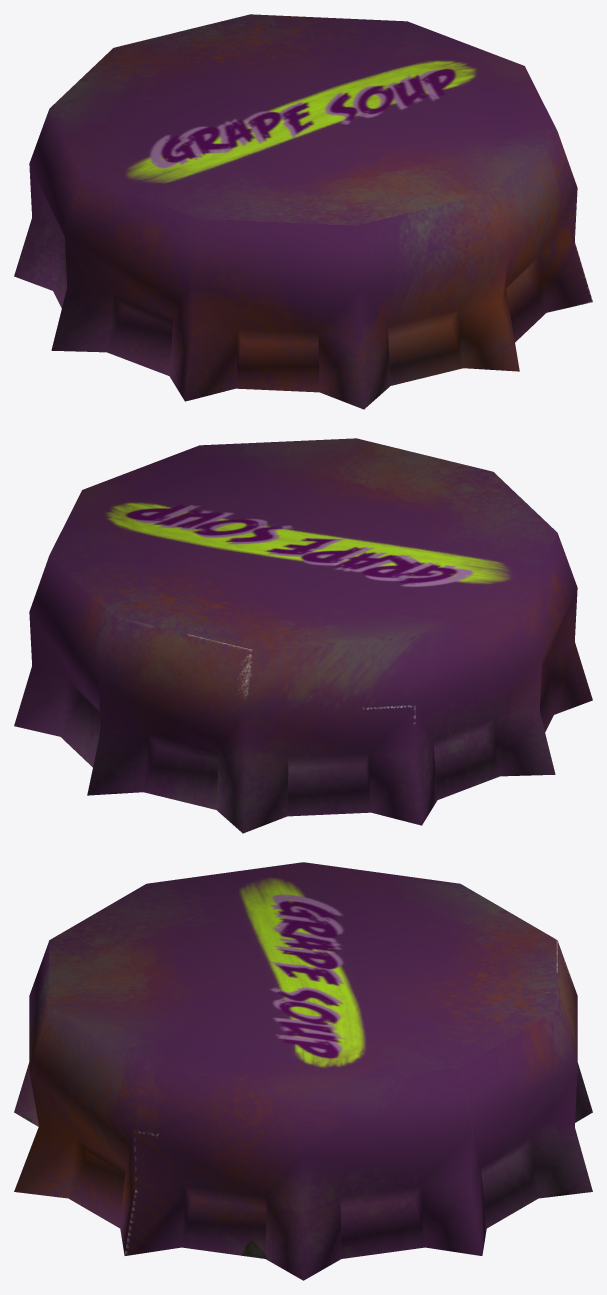
File: bottlecap.obj
3 renders of one model, top to bottom at view 1: azimuth 30°, elevation 25°; view 2: azimuth 150°, elevation 25°; view 3: azimuth 270°, elevation 25°, orthographic. The views are drawn at different scales.
Visible parts, largest first — view 1: pCylinder1; view 2: pCylinder1; view 3: pCylinder1.
Boxes of the visible parts, x1,y1,x2,y2 form: pCylinder1: (14, 14, 592, 409); pCylinder1: (14, 438, 592, 833); pCylinder1: (14, 862, 592, 1280).
Bounding box in the file's own units: 228 × 73.11 × 217.
1 material, 1 textured.
